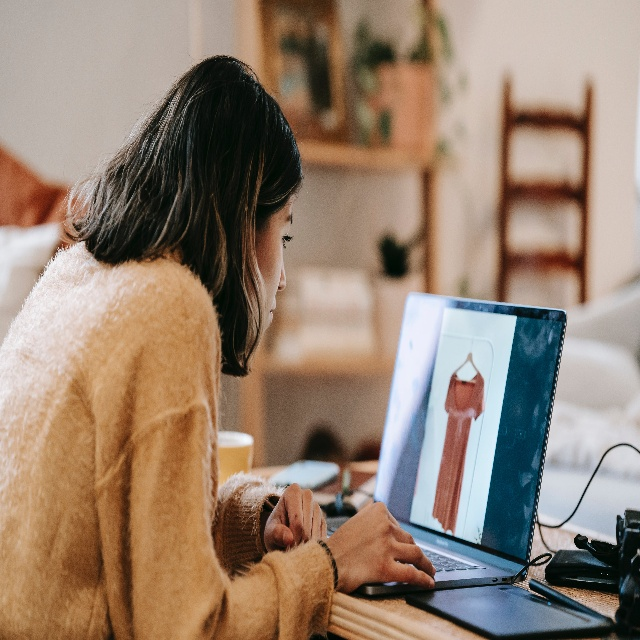Sin_guantes: (332, 501, 439, 587), (264, 484, 332, 545)
